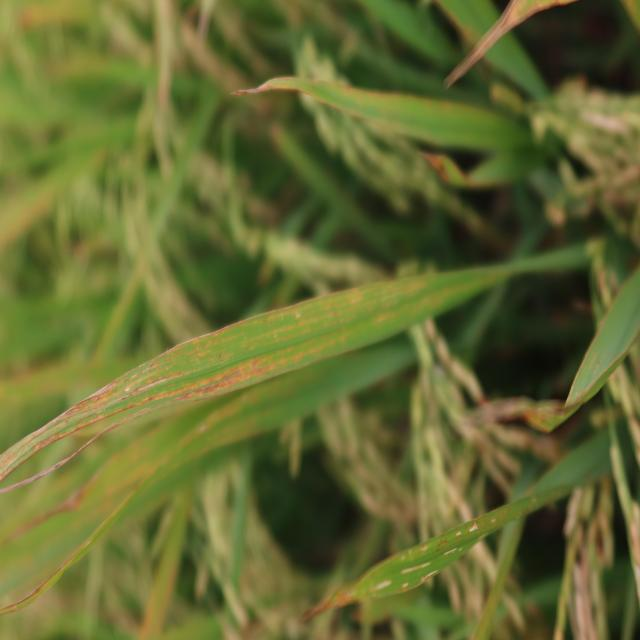Dom soc vi khuan: (0, 354, 190, 483), (137, 346, 303, 408), (186, 337, 201, 358), (198, 349, 213, 359)
